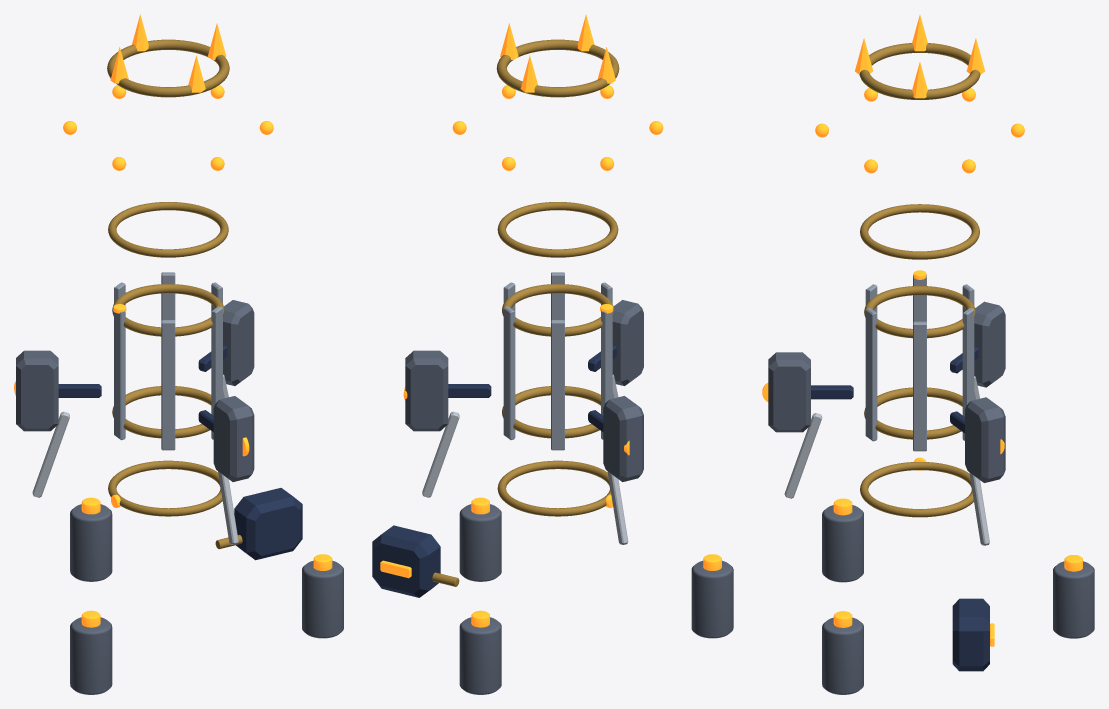
Rendered from tower_overclock_potency_s10.glb.
3 renders of one model, left to right at view 1: azimuth 30°, elevation 25°; view 2: azimuth 150°, elevation 25°; view 3: azimuth 270°, elevation 25°, orthographic.
Parts seen in each view (by area): view 1: overclock_trap_coupler, overclock_aura_emitter0, overclock_aura_emitter2, overclock_cap0, overclock_cap2, overclock_cap1, overclock_aura_emitter1, overclock_conductor_b2.36, overclock_crown_ring, overclock_conductor_b1.14, overclock_vane5, overclock_conductor1.98 (+7 smaller); view 2: overclock_trap_coupler, overclock_aura_emitter1, overclock_aura_emitter0, overclock_cap1, overclock_cap0, overclock_cap2, overclock_aura_emitter2, overclock_conductor_b2.36, overclock_crown_ring, overclock_conductor_b1.14, overclock_conductor1.98, overclock_vane1 (+7 smaller); view 3: overclock_aura_emitter2, overclock_aura_emitter1, overclock_cap0, overclock_cap2, overclock_cap1, overclock_trap_coupler, overclock_aura_emitter0, overclock_crown_ring, overclock_conductor_b2.36, overclock_conductor_b1.14, overclock_conductor1.98, overclock_vane3 (+6 smaller).
Boxes of the visible parts, <box> form: overclock_trap_coupler: <box>234,488,302,560</box>; overclock_aura_emitter0: <box>16,350,58,431</box>; overclock_aura_emitter2: <box>213,396,254,481</box>; overclock_cap0: <box>70,504,112,581</box>; overclock_cap2: <box>70,617,112,694</box>; overclock_cap1: <box>302,560,343,638</box>; overclock_aura_emitter1: <box>223,300,254,385</box>; overclock_conductor_b2.36: <box>108,202,228,257</box>; overclock_crown_ring: <box>107,39,229,97</box>; overclock_conductor_b1.14: <box>108,460,222,516</box>; overclock_vane5: <box>161,320,175,450</box>; overclock_conductor1.98: <box>112,284,224,336</box>; overclock_trap_coupler: <box>372,525,440,597</box>; overclock_aura_emitter1: <box>405,350,448,431</box>; overclock_aura_emitter0: <box>603,396,643,481</box>; overclock_cap1: <box>459,504,501,581</box>; overclock_cap0: <box>459,617,501,694</box>; overclock_cap2: <box>691,560,733,638</box>; overclock_aura_emitter2: <box>612,300,643,385</box>; overclock_conductor_b2.36: <box>497,202,618,257</box>; overclock_crown_ring: <box>496,39,619,97</box>; overclock_conductor_b1.14: <box>497,460,611,516</box>; overclock_conductor1.98: <box>502,284,614,336</box>; overclock_vane1: <box>551,320,564,450</box>; overclock_aura_emitter2: <box>768,352,810,432</box>; overclock_aura_emitter1: <box>965,397,1005,482</box>; overclock_cap0: <box>1053,561,1094,638</box>; overclock_cap2: <box>822,505,863,582</box>; overclock_cap1: <box>822,617,863,694</box>; overclock_trap_coupler: <box>952,598,989,671</box>; overclock_aura_emitter0: <box>974,301,1005,387</box>; overclock_crown_ring: <box>859,43,980,99</box>; overclock_conductor_b2.36: <box>860,204,979,259</box>; overclock_conductor_b1.14: <box>860,462,973,517</box>; overclock_conductor1.98: <box>864,286,975,338</box>; overclock_vane3: <box>913,321,926,451</box>.
Size of the model in its own units: 1.42 by 2.81 by 1.43.
